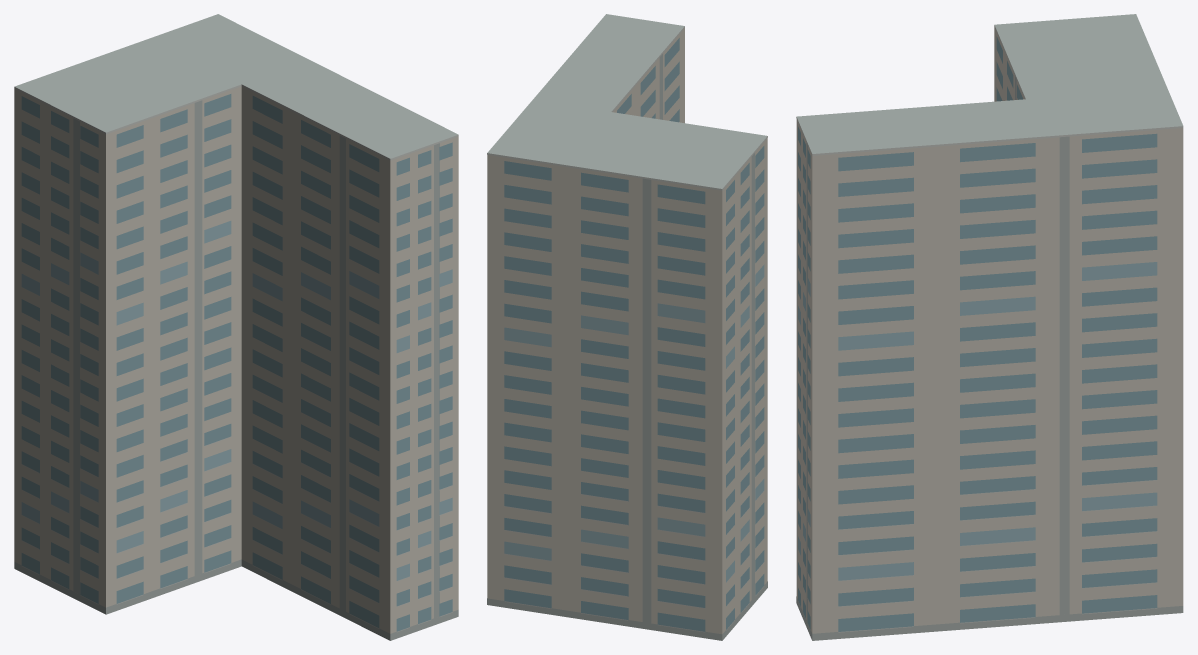
Rendered from residential-8348cfba-048b-423b-b36d-9e39fc9d7d58.glb.
3 views of the same model, side by side, from view 1: azimuth 30°, elevation 25°; view 2: azimuth 150°, elevation 25°; view 3: azimuth 270°, elevation 25° (orthographic). The views are drawn at different scales.
Parts seen in each view (by area): view 1: residential-8348cfba-048b-423b-b36d-9e39fc9d7d58.tmp; view 2: residential-8348cfba-048b-423b-b36d-9e39fc9d7d58.tmp; view 3: residential-8348cfba-048b-423b-b36d-9e39fc9d7d58.tmp.
Part boxes in pixels (x1,y1,x2,y2): residential-8348cfba-048b-423b-b36d-9e39fc9d7d58.tmp: (14, 14, 458, 640); residential-8348cfba-048b-423b-b36d-9e39fc9d7d58.tmp: (487, 14, 767, 640); residential-8348cfba-048b-423b-b36d-9e39fc9d7d58.tmp: (796, 14, 1183, 640).
Size of the model in its own units: 39.5 by 64 by 46.11.
